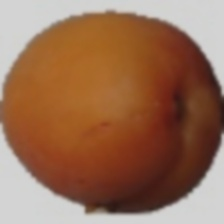apricot: (22, 43, 171, 203)
